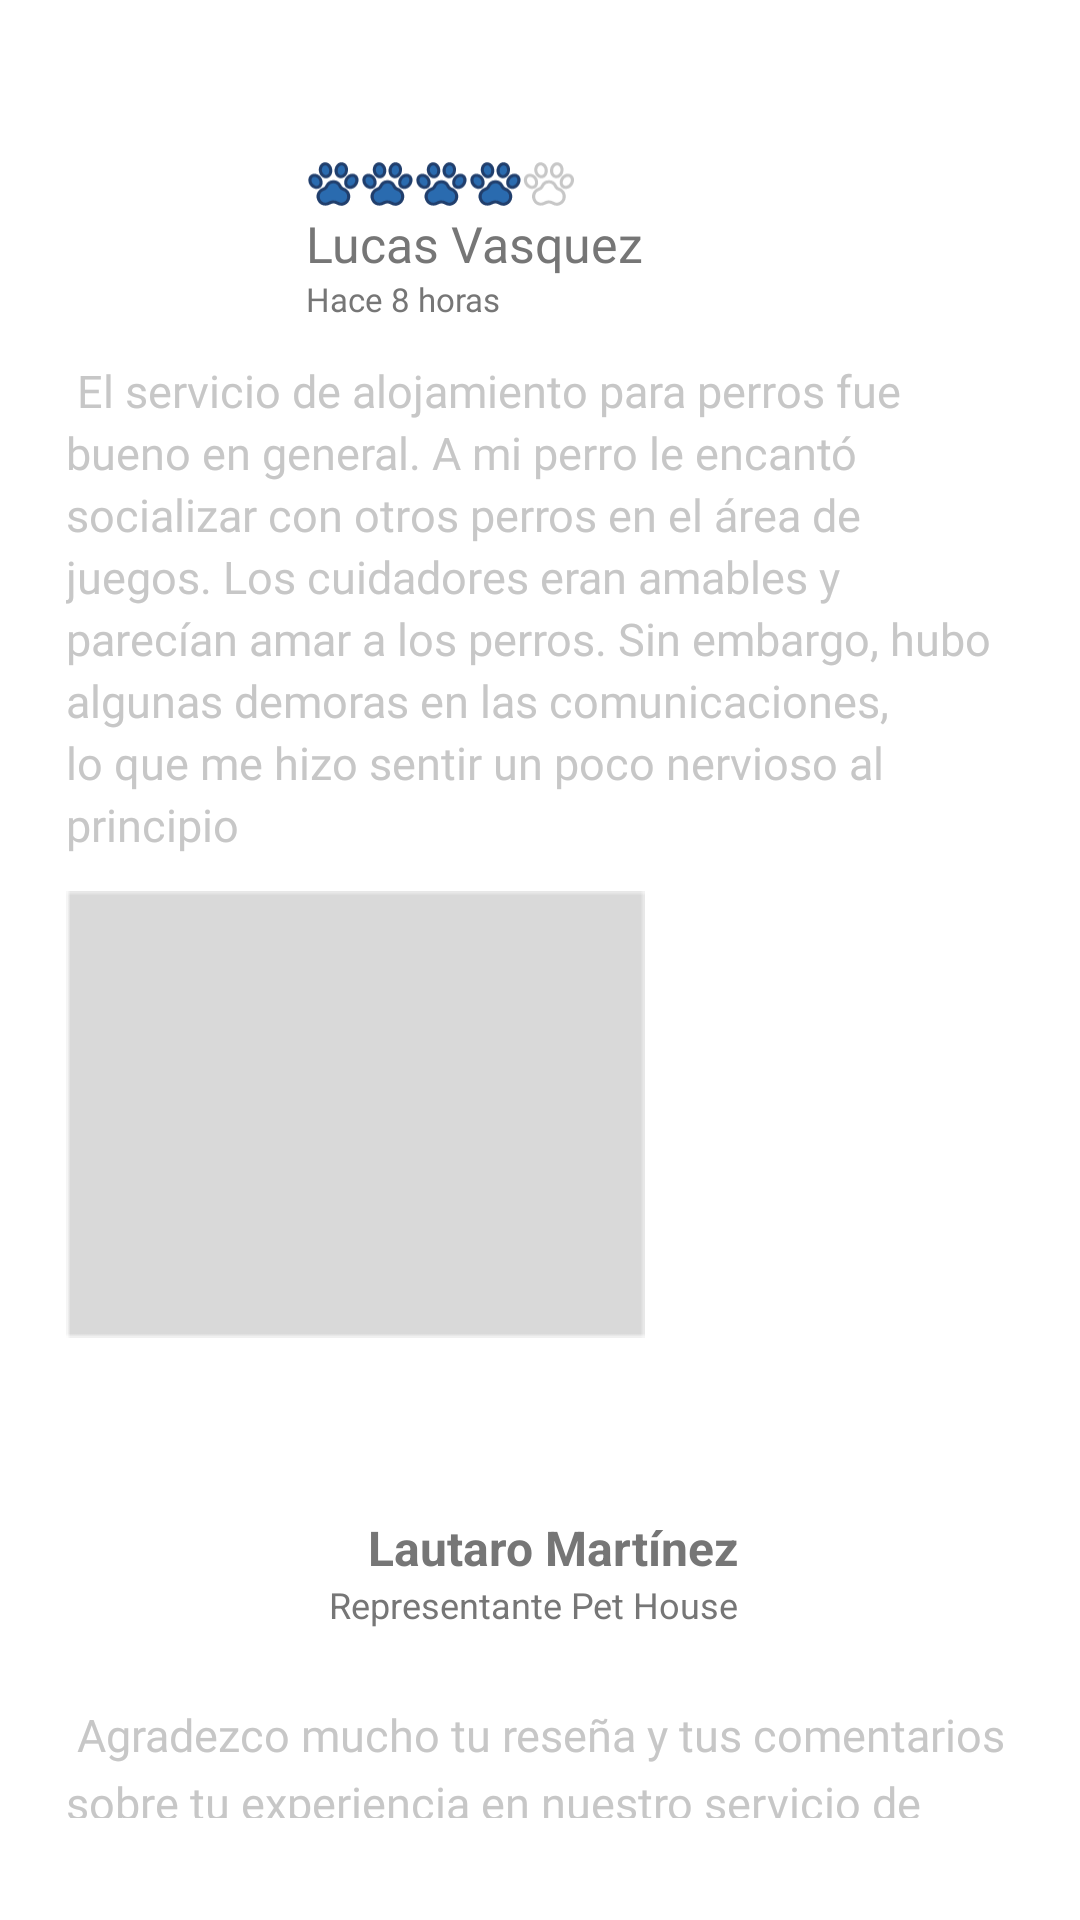

Where to tap for icons on this 1080w x 1920h app screen, as (x,y):
review paw: (333,184), (387,184), (441,184), (495,184)
review pawblank: (549,184)
